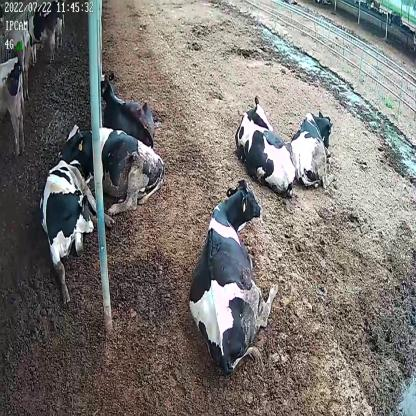cow: (189, 179, 278, 370), (40, 156, 114, 304), (60, 120, 166, 214), (236, 92, 297, 197), (99, 70, 158, 144), (292, 106, 332, 189)
